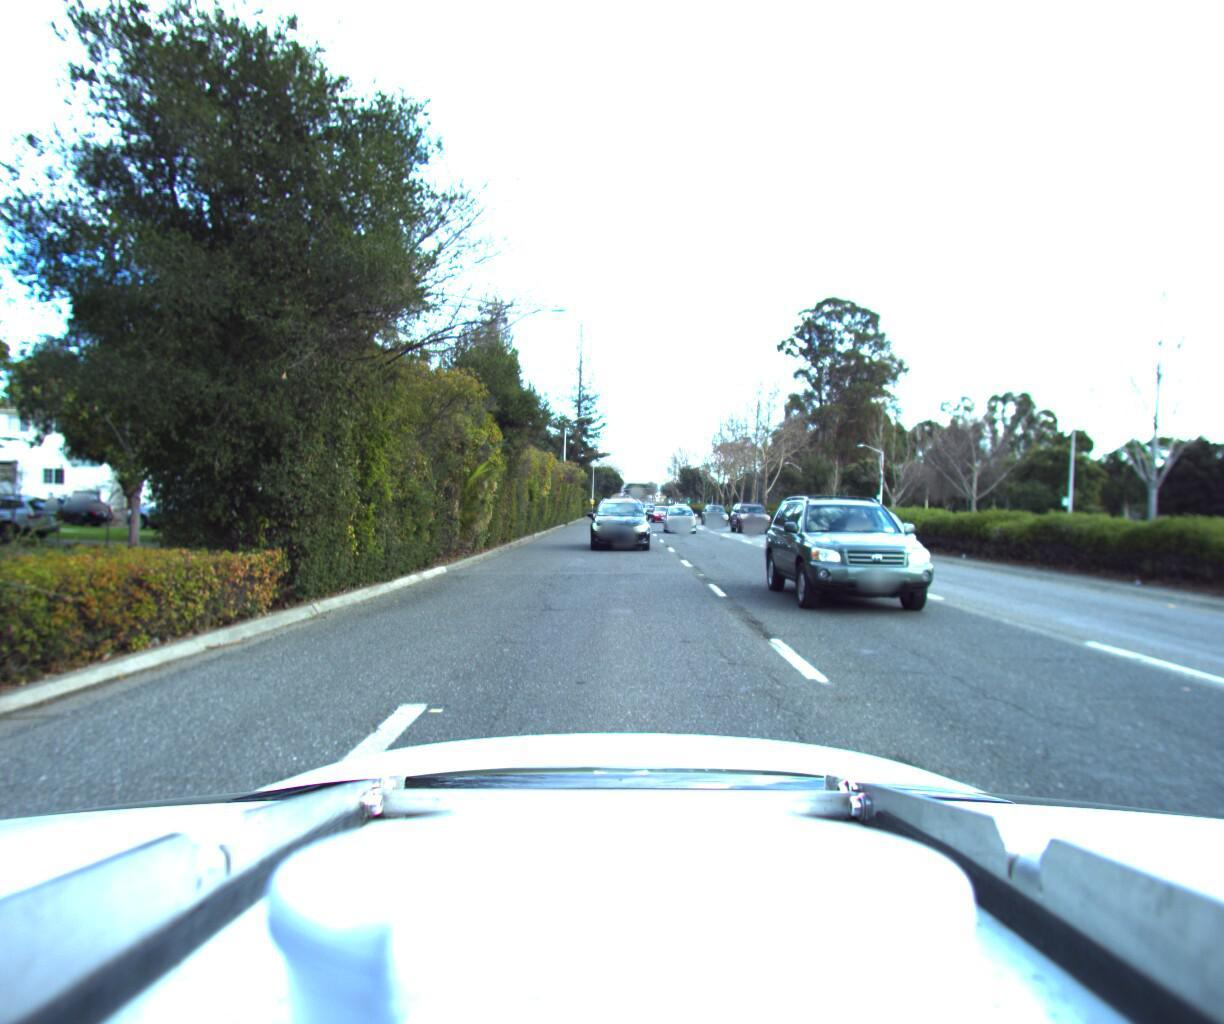car: (769, 486, 982, 636), (839, 501, 954, 565), (1, 491, 114, 529), (119, 496, 228, 535), (587, 492, 650, 551), (730, 491, 780, 529), (658, 496, 698, 528), (701, 499, 732, 522), (647, 497, 673, 519)
